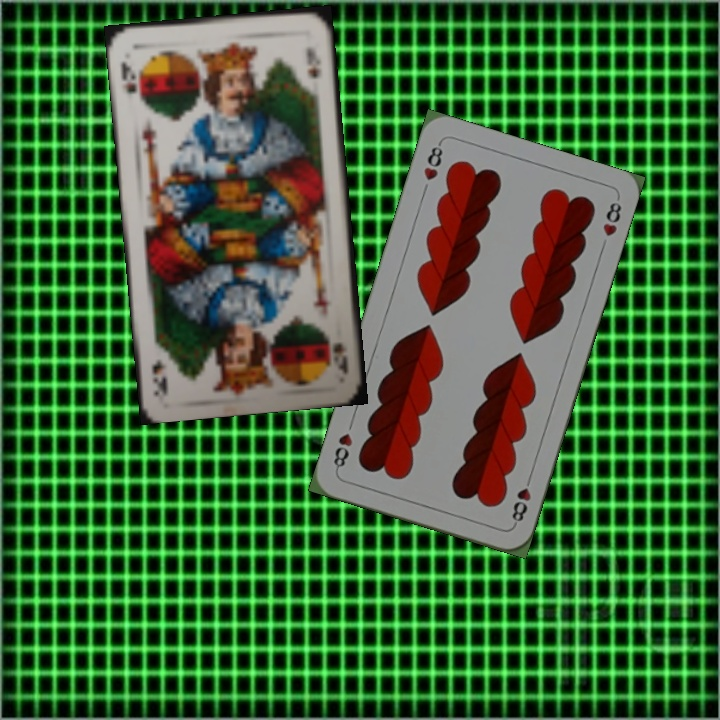H8: (508, 470, 535, 528), (419, 138, 446, 183)
SK: (117, 57, 139, 97), (329, 338, 351, 377)
